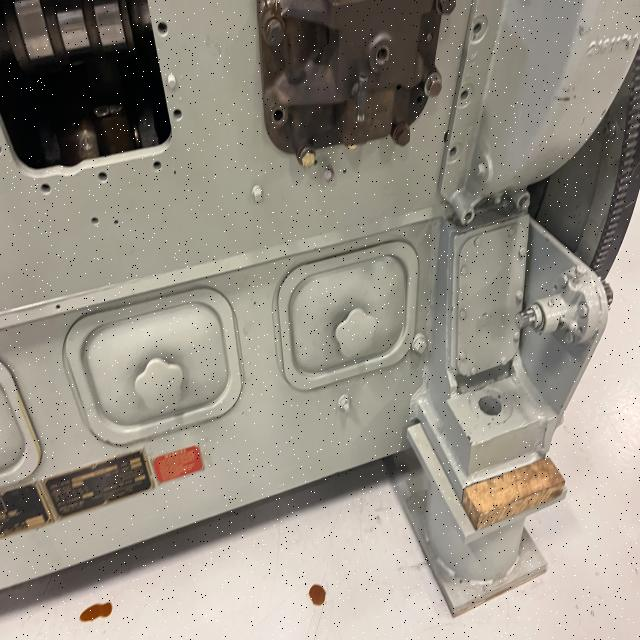Oil Leak: (77, 599, 115, 624), (307, 583, 327, 607)
